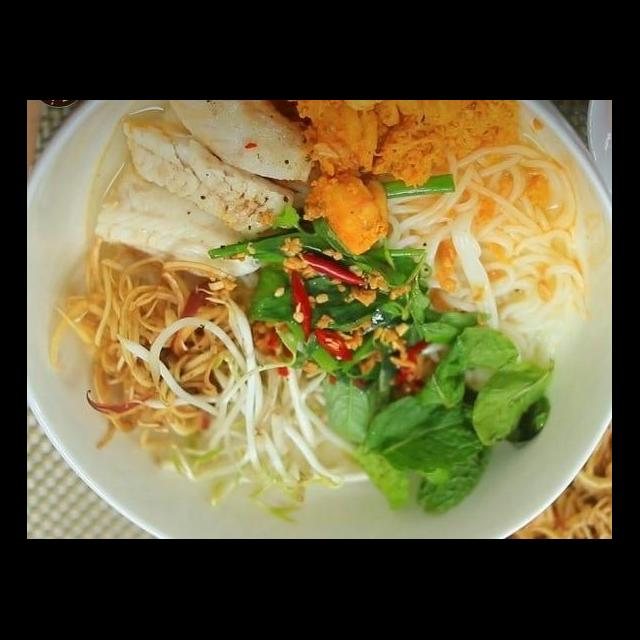bun: (380, 140, 594, 390)
bun ca: (47, 130, 591, 529)
ca: (112, 110, 300, 242), (85, 166, 272, 284), (160, 102, 314, 185)
rau ram: (244, 204, 498, 380)
tom: (298, 164, 397, 260), (294, 101, 391, 182)
